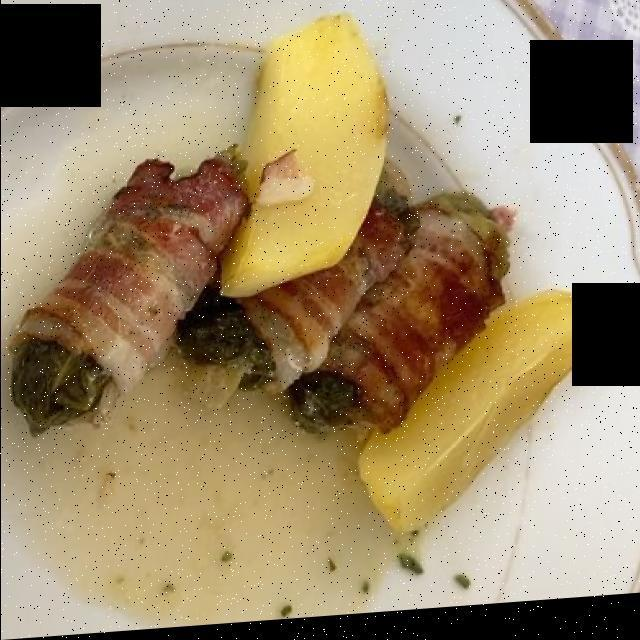bacon: (14, 154, 498, 439)
bouillon: (36, 380, 381, 613)
potatoes: (213, 17, 610, 556)
salad: (14, 305, 375, 436)
